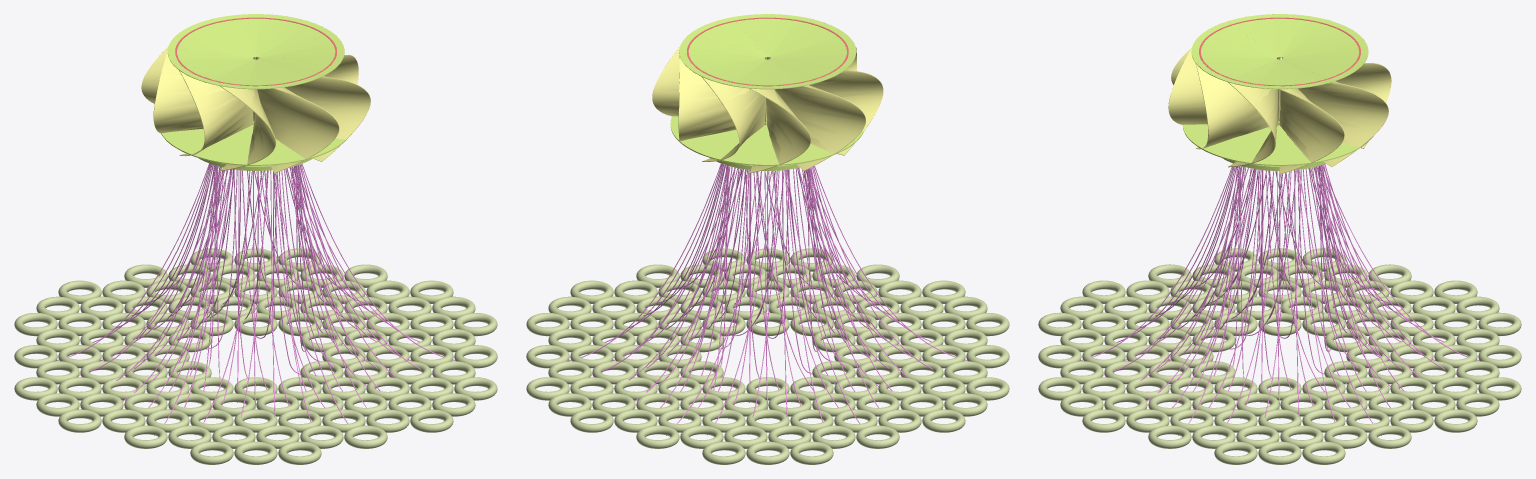
Rendered from fudao.glb.
3 views of the same model, side by side, from view 1: azimuth 30°, elevation 25°; view 2: azimuth 150°, elevation 25°; view 3: azimuth 270°, elevation 25° (orthographic).
Bounding box in the file's own units: 3.41 × 2.34 × 3.3.
